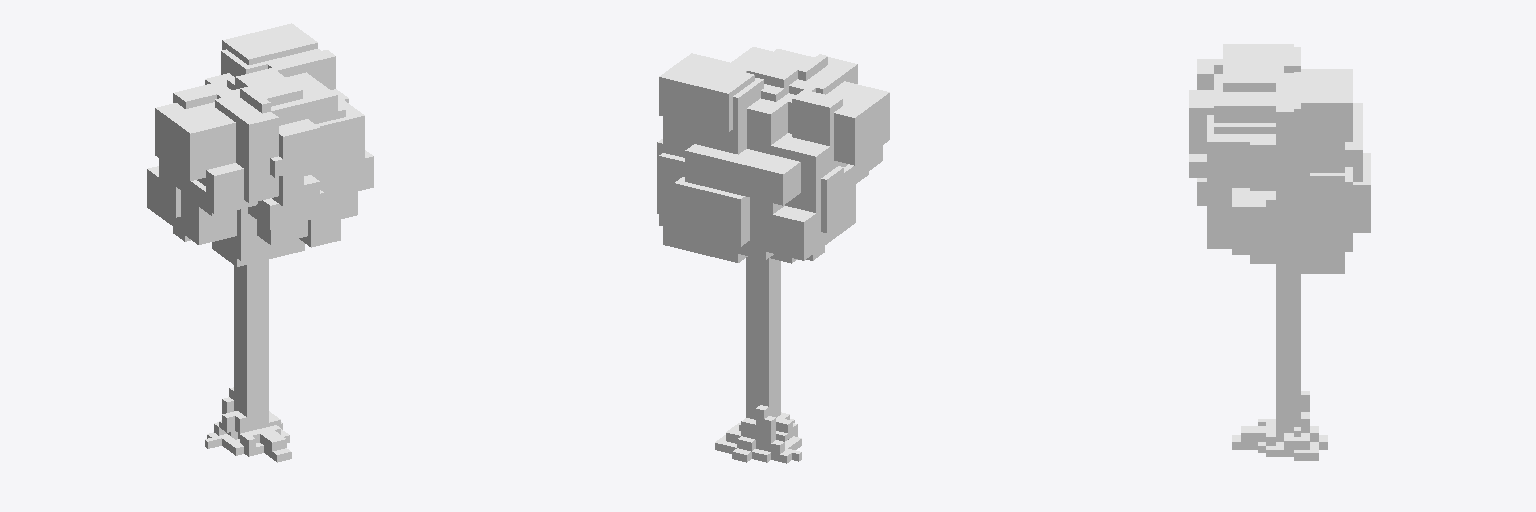
Rendered from NormalTree.obj.
3 views of the same model, side by side, from view 1: azimuth 30°, elevation 25°; view 2: azimuth 150°, elevation 25°; view 3: azimuth 270°, elevation 25° (orthographic).
Parts seen in each view (by area): view 1: object 1; view 2: object 1; view 3: object 1.
Part boxes in pixels (bbox=[...]): object 1: bbox=[147, 23, 373, 462]; object 1: bbox=[657, 47, 889, 463]; object 1: bbox=[1189, 44, 1370, 460].
Bounding box in the file's own units: 13.2 × 25.3 × 11.1.